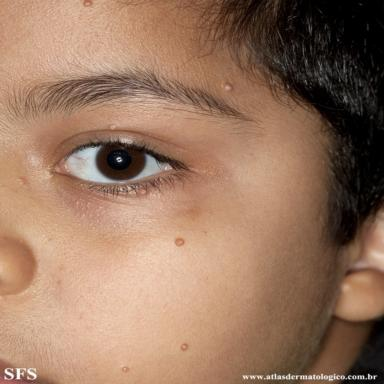Molluscum-Contagiosum: (16, 176, 29, 185), (221, 83, 234, 91), (175, 238, 184, 246), (181, 343, 188, 351), (84, 1, 93, 6), (109, 125, 117, 130), (123, 367, 128, 372)
